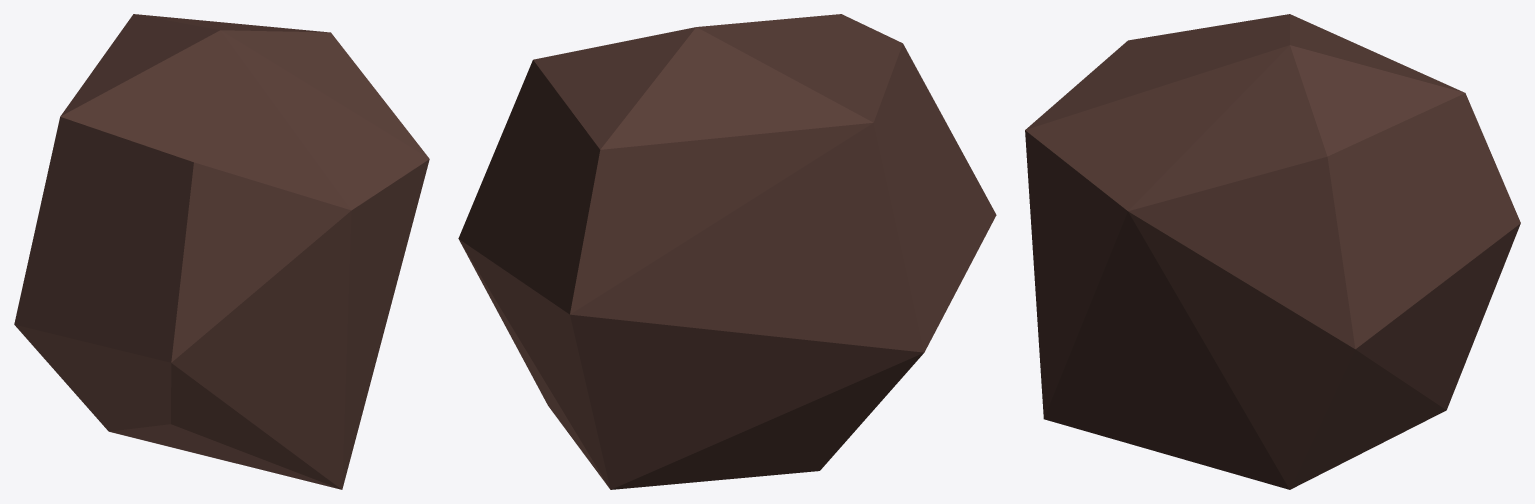
The model's file is Rock-A11.fbx.
3 views of the same model, side by side, from view 1: azimuth 30°, elevation 25°; view 2: azimuth 150°, elevation 25°; view 3: azimuth 270°, elevation 25° (orthographic). The views are drawn at different scales.
Parts seen in each view (by area): view 1: Rock-A11; view 2: Rock-A11; view 3: Rock-A11.
Part boxes in pixels (left/top/right/bottom): Rock-A11: left=14, top=14, right=429, bottom=489; Rock-A11: left=458, top=14, right=996, bottom=489; Rock-A11: left=1025, top=14, right=1520, bottom=489.
Bounding box in the file's own units: 52.8 × 48.66 × 57.74.
